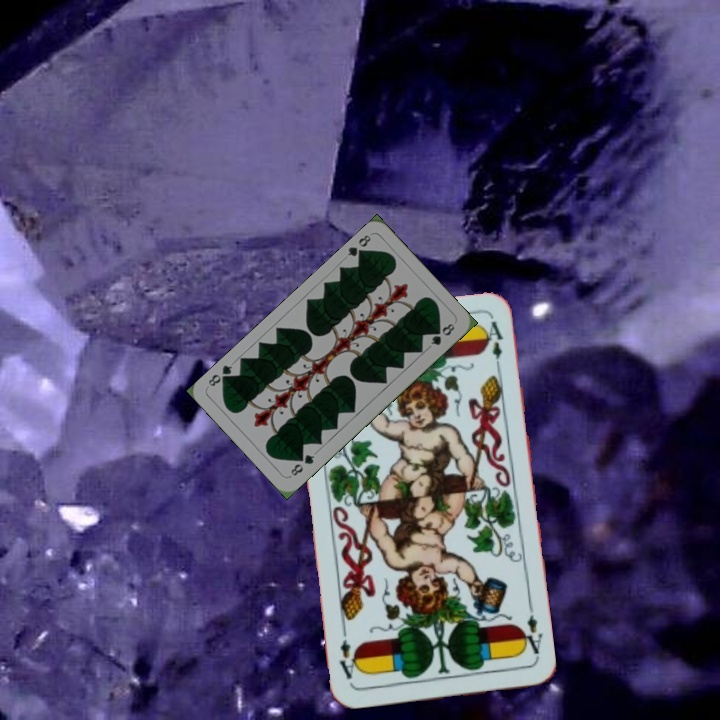EA: (516, 603, 545, 662)
G8: (343, 231, 374, 262), (286, 450, 317, 479)
